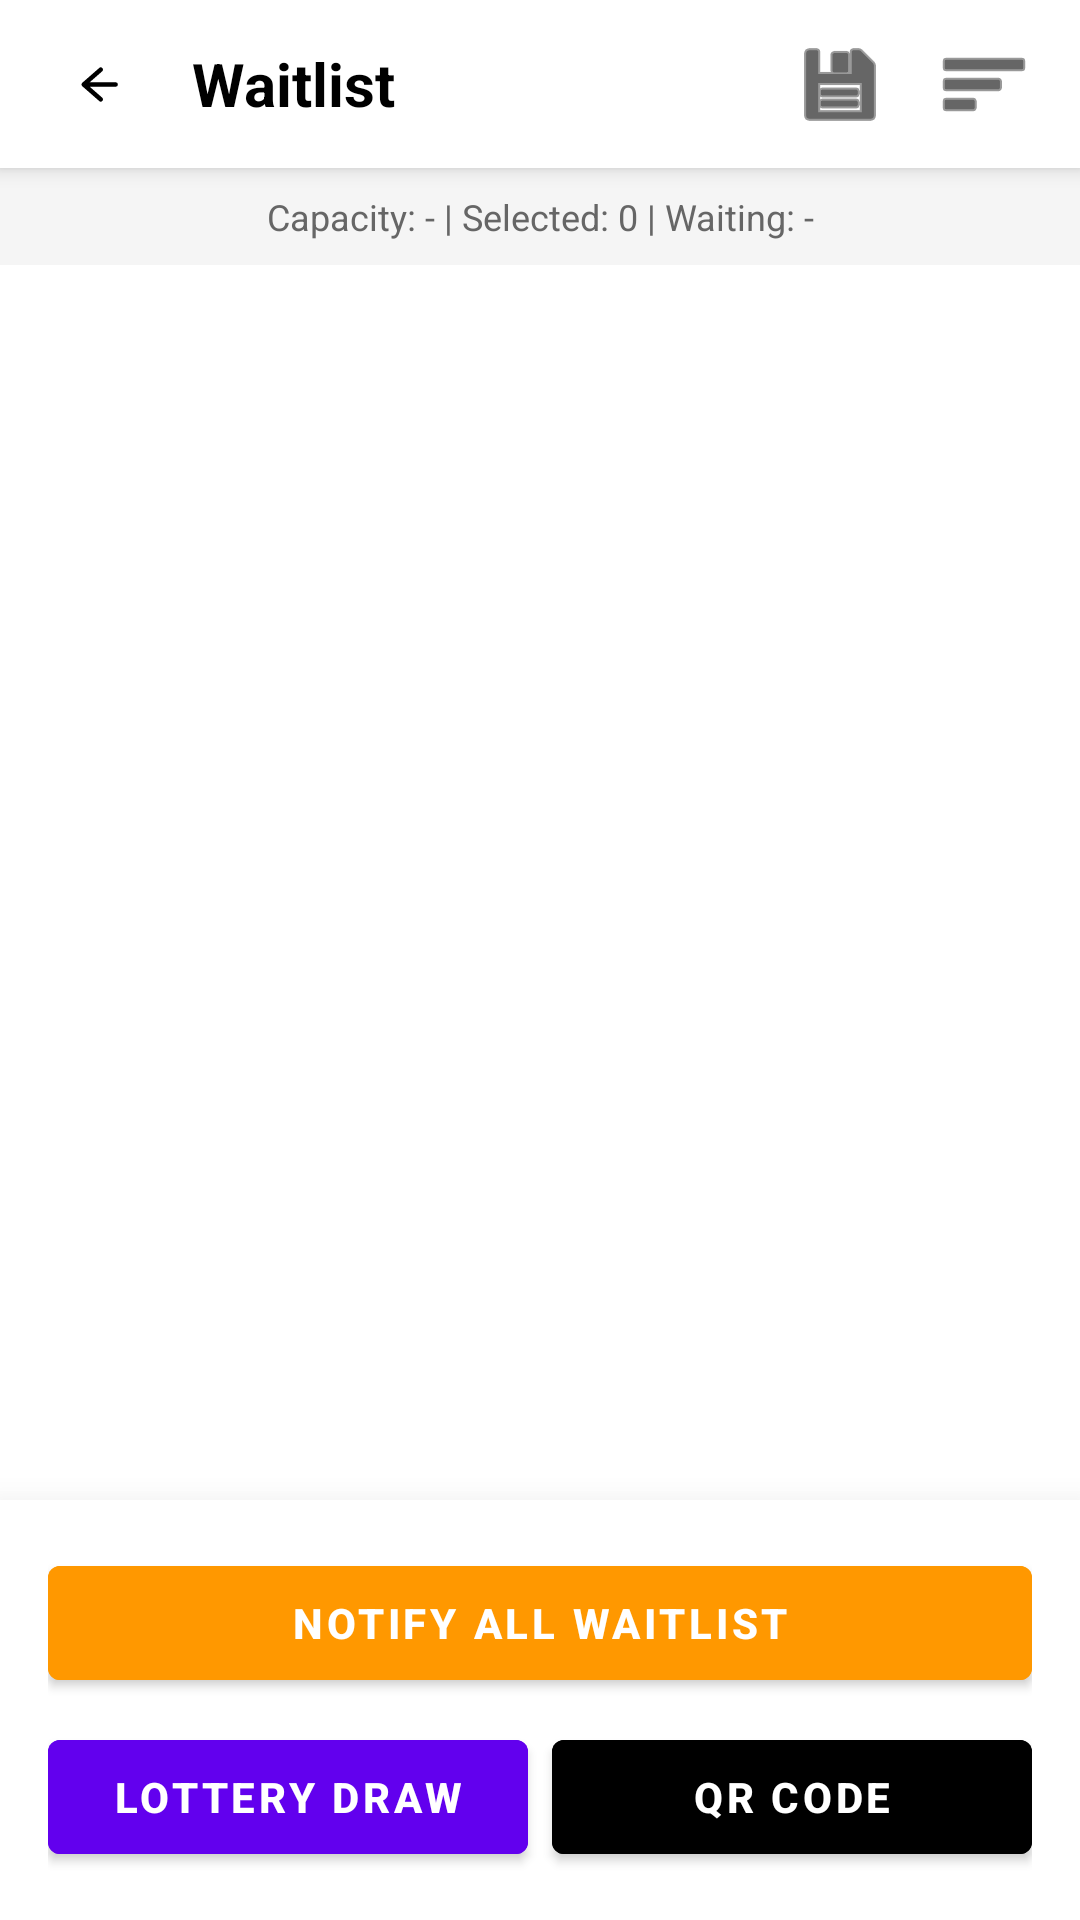

Named icons in this screenshot (1080×1920) and their bounding boxes, (x1, y1, x2, y2):
Back: (81, 67, 118, 102)
Export CSV: (804, 48, 876, 121)
Filter Views: (943, 58, 1025, 111)
